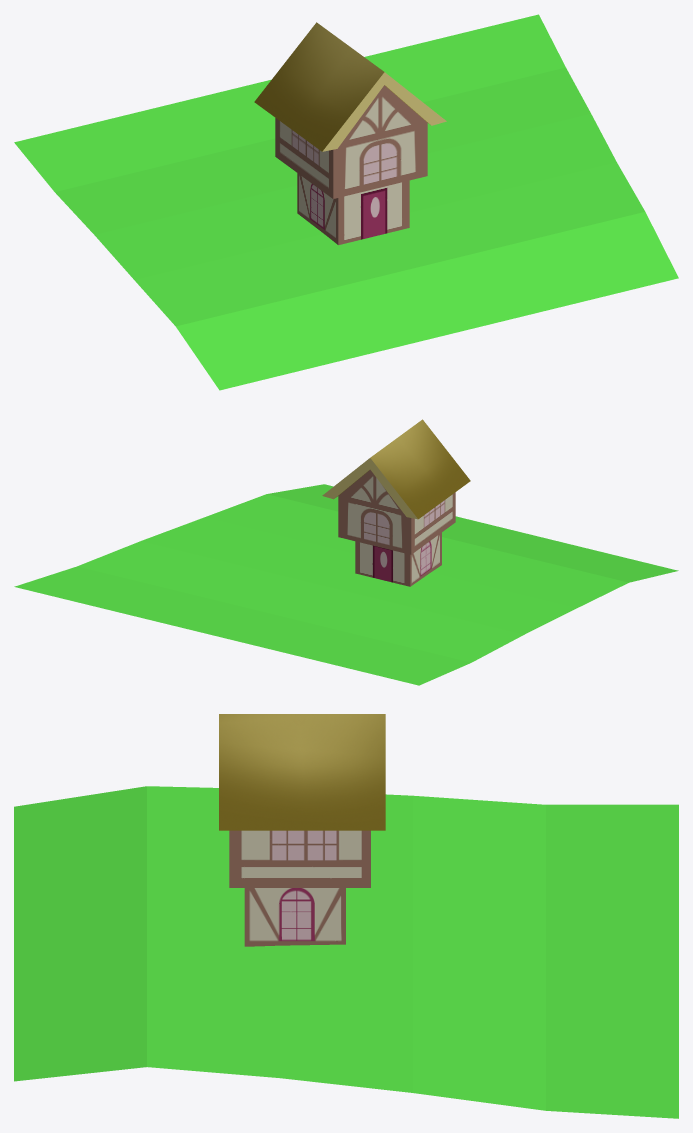
Rendered from farm.gltf.
3 renders of one model, top to bottom at view 1: azimuth 30°, elevation 25°; view 2: azimuth 150°, elevation 25°; view 3: azimuth 270°, elevation 25°, orthographic. The views are drawn at different scales.
Visible parts, largest first — view 1: Plane; view 2: Plane; view 3: Plane.
Part boxes in pixels (left/top/right/bottom): Plane: left=14, top=14, right=678, bottom=390; Plane: left=14, top=419, right=678, bottom=685; Plane: left=14, top=714, right=678, bottom=1118.
Size of the model in its own units: 16.55 by 5.27 by 13.16.
Materials: 2 (1 with a texture image).
